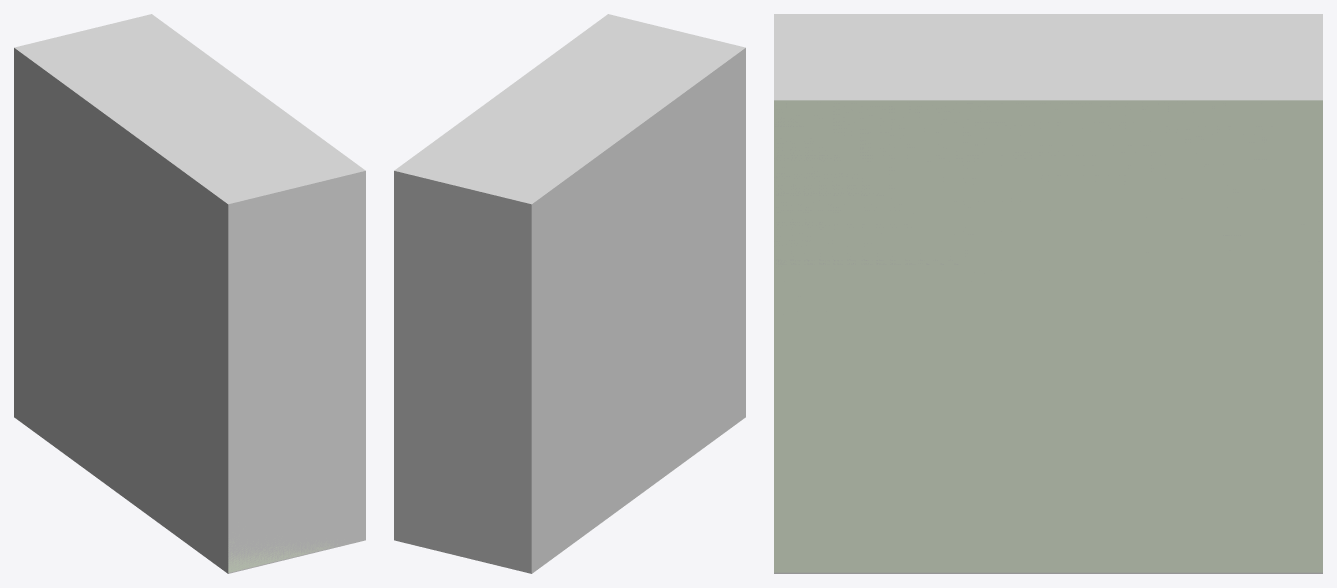
The model's file is ReNe_Clothing_Wall.gltf.
3 renders of one model, left to right at view 1: azimuth 30°, elevation 25°; view 2: azimuth 150°, elevation 25°; view 3: azimuth 270°, elevation 25°, orthographic. The views are drawn at different scales.
Parts seen in each view (by area): view 1: ReNe_Clothing_Wall_bcol, ReNe_Clothing_Wall.001; view 2: ReNe_Clothing_Wall_bcol; view 3: ReNe_Clothing_Wall.001, ReNe_Clothing_Wall_bcol.
Part boxes in pixels (x1=…): ReNe_Clothing_Wall_bcol: x1=14, y1=14, x2=365, y2=573; ReNe_Clothing_Wall.001: x1=228, y1=540, x2=337, y2=572; ReNe_Clothing_Wall_bcol: x1=394, y1=14, x2=745, y2=573; ReNe_Clothing_Wall.001: x1=774, y1=100, x2=1322, y2=572; ReNe_Clothing_Wall_bcol: x1=774, y1=14, x2=1322, y2=573.
Bounding box in the file's own units: 1.56 × 4.01 × 4.21.
